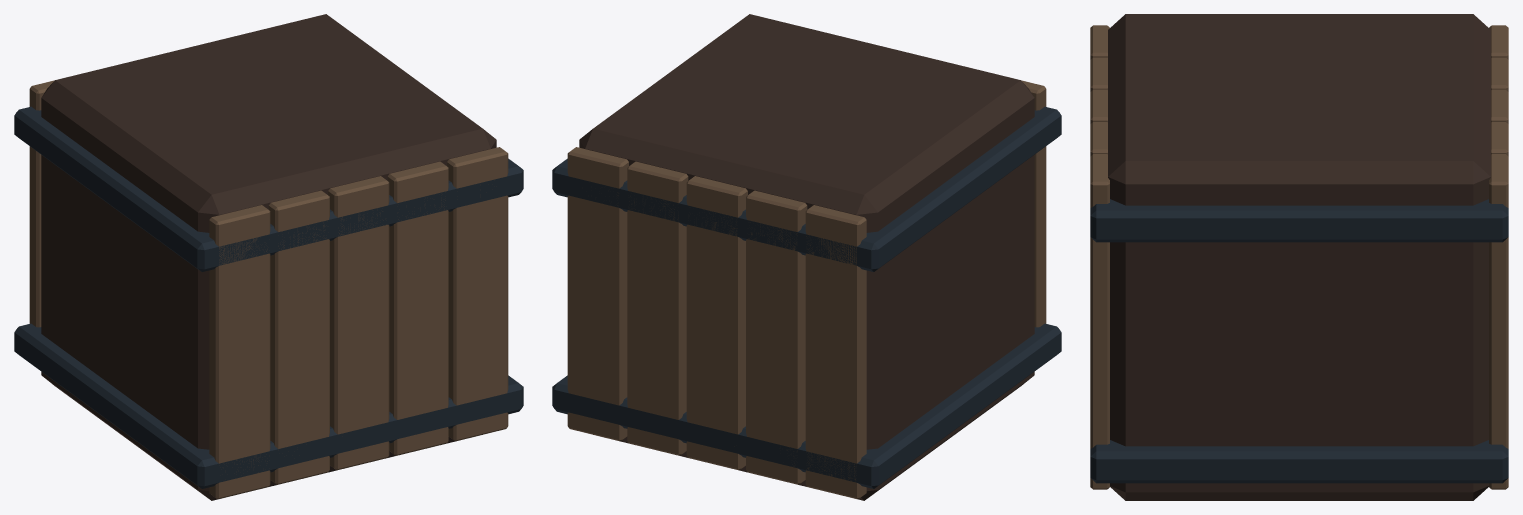
Rendered from crate.glb.
3 renders of one model, left to right at view 1: azimuth 30°, elevation 25°; view 2: azimuth 150°, elevation 25°; view 3: azimuth 270°, elevation 25°, orthographic. The views are drawn at different scales.
Parts seen in each view (by area): view 1: crate; view 2: crate; view 3: crate.
Part boxes in pixels (x1,y1,x2,y2): crate: (14, 14, 523, 500); crate: (552, 14, 1061, 500); crate: (1090, 14, 1508, 500).
Size of the model in its own units: 1.07 by 0.96 by 1.07.
